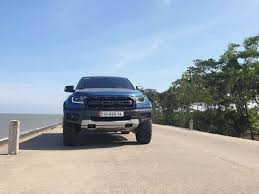Bien-so: (100, 111, 124, 118)
